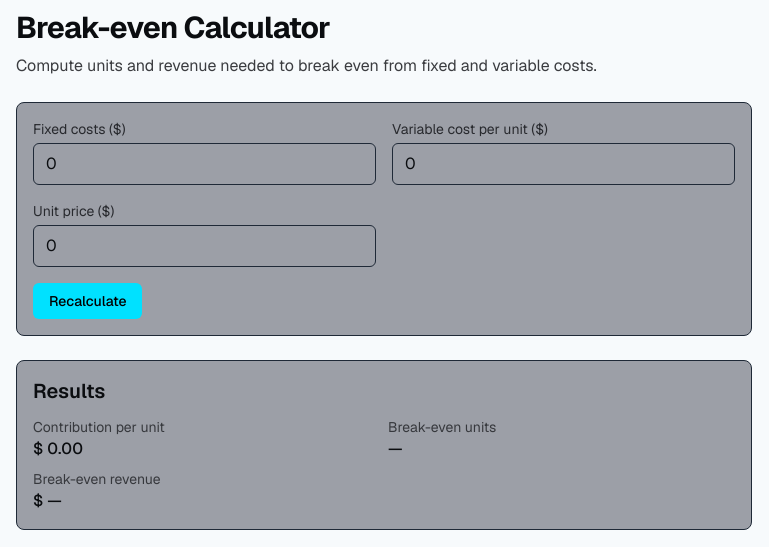
Scenario: BreakEvenPage › computes units and revenue
Replace the text in the number field named "fixedCosts" with "1000" at (204, 164), box [33,143,376,185]
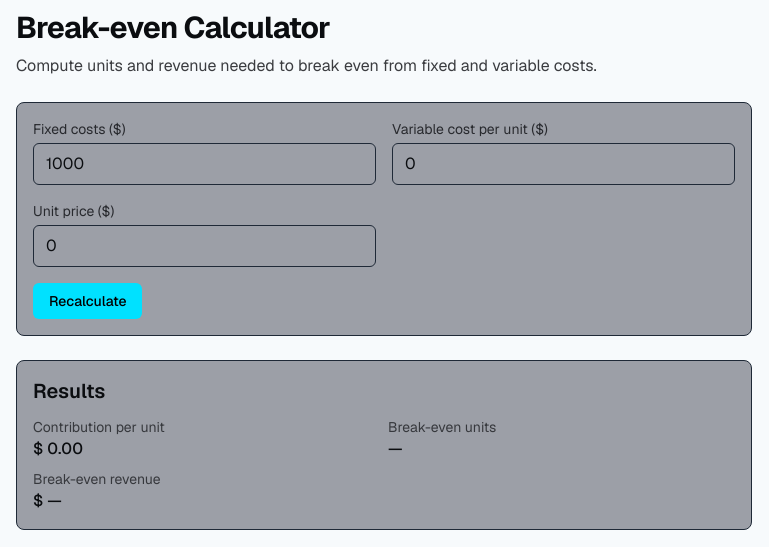
Replace the text in the number field named "variablePerUnit" with "25" at (564, 164), box [392,143,735,185]
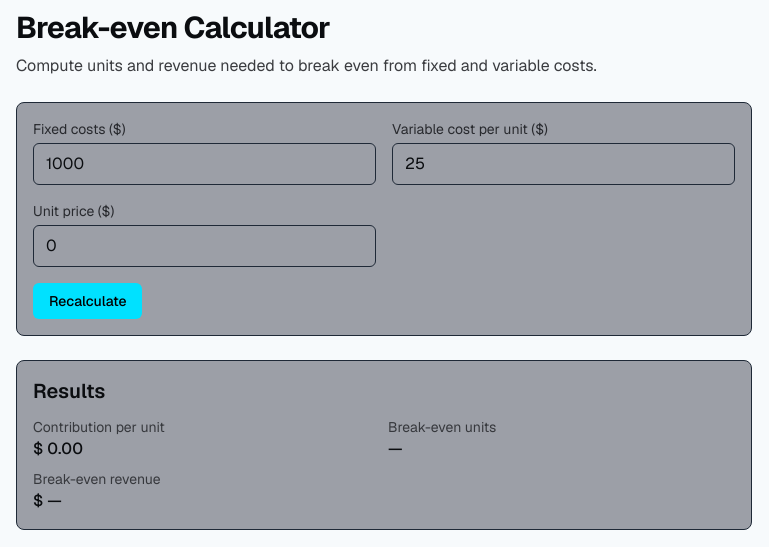
Replace the text in the number field named "unitPrice" with "50" at (204, 246), box [33,225,376,267]
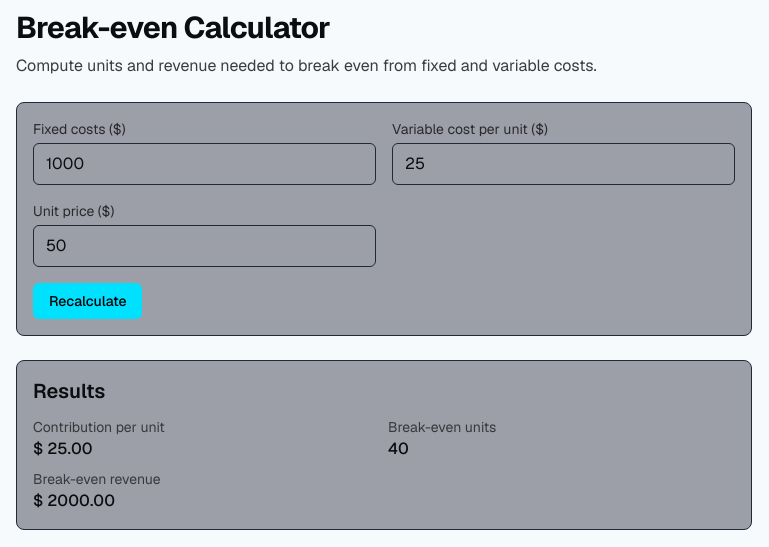
Expected: the text "40" is shown, [388,438,409,459]
